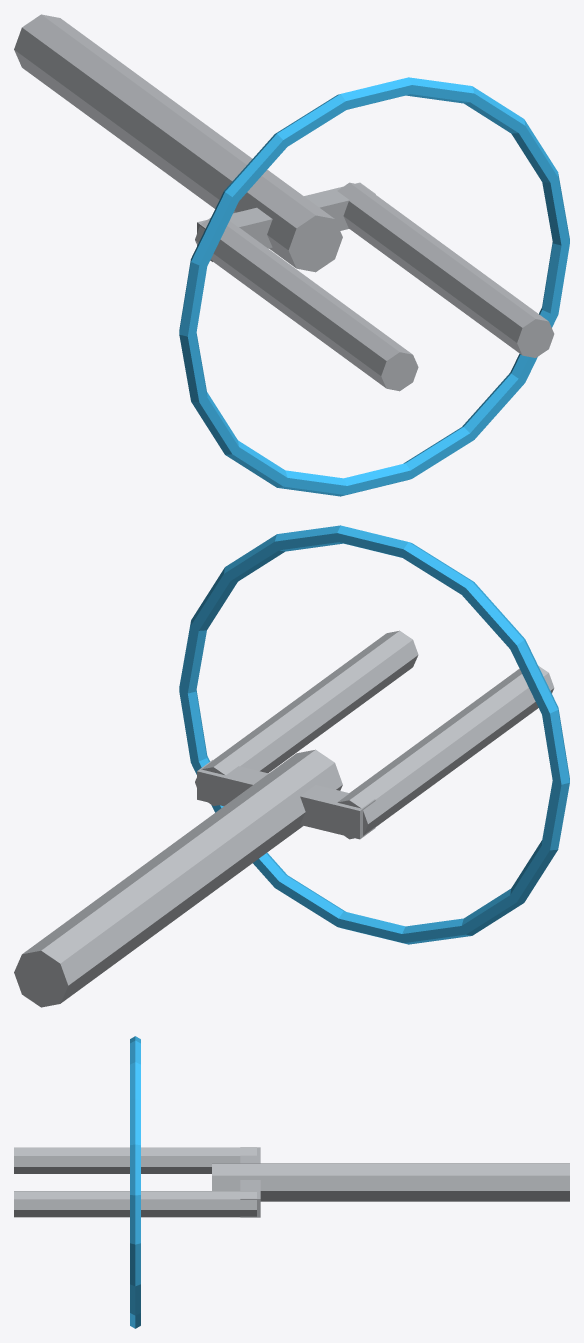
Rendered from tuning_fork_relic.glb.
3 views of the same model, one above another, from view 1: azimuth 30°, elevation 25°; view 2: azimuth 150°, elevation 25°; view 3: azimuth 270°, elevation 25° (orthographic). The views are drawn at different scales.
Parts seen in each view (by area): view 1: stem, sound, prongR, prongL, bridge; view 2: stem, sound, prongR, prongL, bridge; view 3: stem, prongR, prongL, sound, bridge.
Boxes of the visible parts, box(x1,y1,x2,y2) form: stem: box(14, 14, 342, 272); sound: box(179, 77, 569, 496); prongR: box(337, 182, 554, 357); prongL: box(195, 217, 418, 391); bridge: box(197, 182, 375, 261); stem: box(14, 749, 342, 1007); sound: box(179, 525, 569, 944); prongR: box(195, 630, 418, 805); prongL: box(337, 665, 554, 839); bridge: box(197, 760, 375, 839); stem: box(212, 1163, 569, 1201); prongR: box(14, 1191, 256, 1217); prongL: box(14, 1147, 256, 1173); sound: box(130, 1036, 140, 1328); bridge: box(240, 1147, 260, 1217).
Size of the model in its own units: 1.15 by 1.13 by 2.18.
